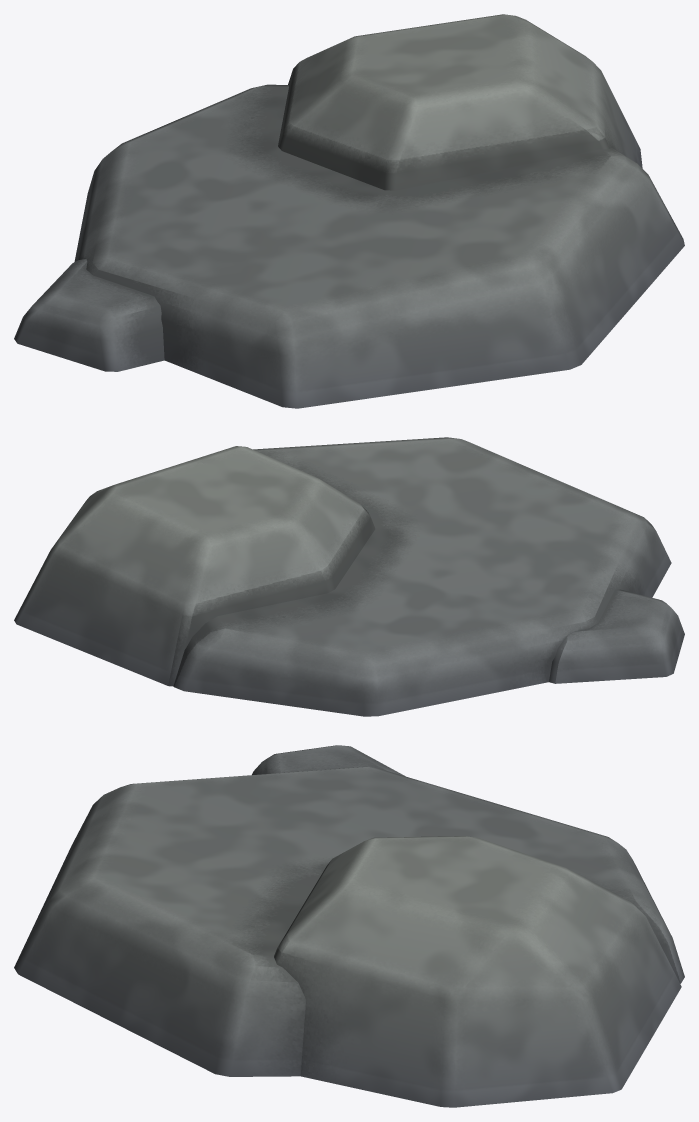
The model's file is slab_2.glb.
3 renders of one model, top to bottom at view 1: azimuth 30°, elevation 25°; view 2: azimuth 150°, elevation 25°; view 3: azimuth 270°, elevation 25°, orthographic. The views are drawn at different scales.
Visible parts, largest first — view 1: slab_2; view 2: slab_2; view 3: slab_2.
Boxes of the visible parts, <box> form: slab_2: <box>14,14,684,408</box>; slab_2: <box>14,437,684,716</box>; slab_2: <box>14,745,684,1107</box>.
Size of the model in its own units: 4 by 0.8 by 3.4.
1 material, 1 textured.
